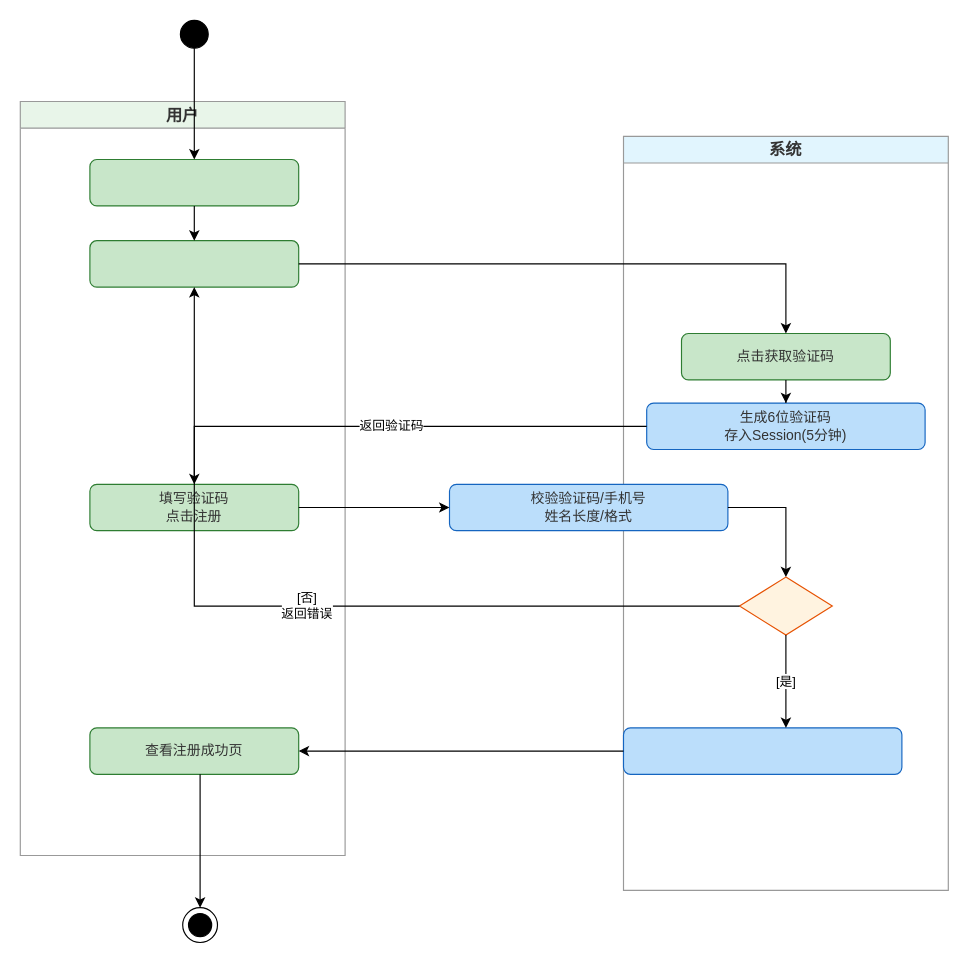
Some shapes in this 969 by 963 pixel diagram are drawn without their labels. Here are the shapes that lost their labels. From the top down, the centre of each, then its label:
[194,182]: 进入注册页面
[194,263]: 填写注册信息
[785,605]: 校验 通过?
[762,750]: 生成用户名密码 PBKDF2哈希 INSERT users
